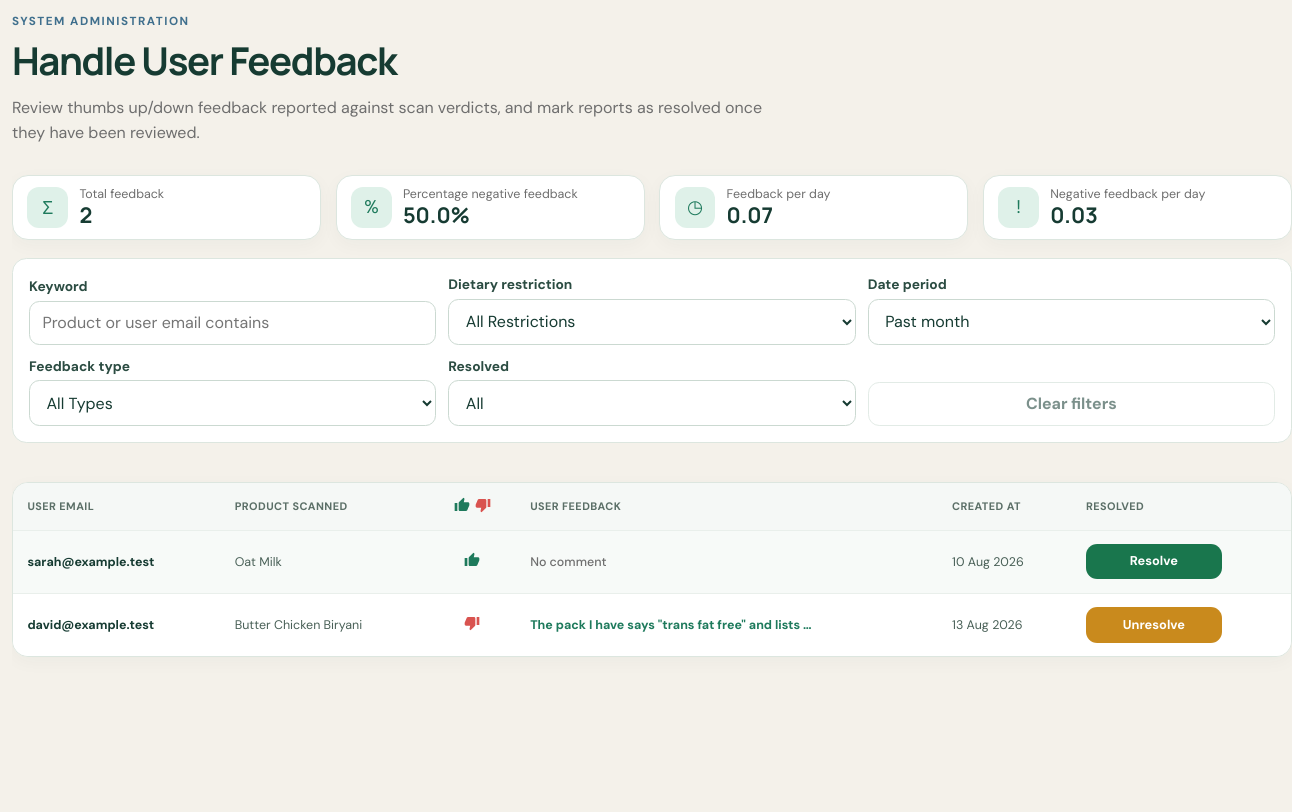
Test: AdminScanFeedbackPage UC20 admin review › resets filters to the default 30-day view
Expected: the column heading "sarah@example.test" is shown, [13,530,220,593]
Step 1. Type "biryani" into the search field labelled "Keyword" → x=233, y=323, box [29,301,436,345]
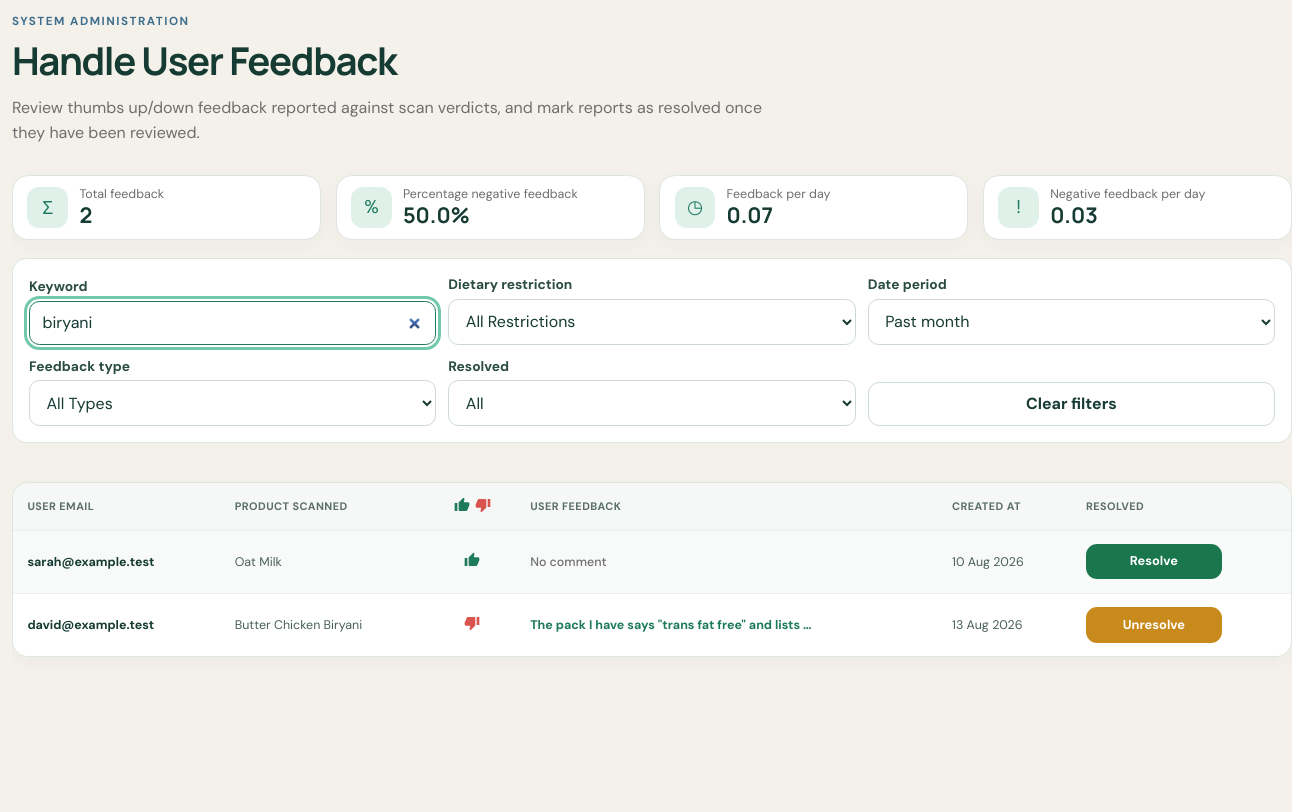
Step 2. Select "Negative" in the dropdown labelled "Feedback type" → x=233, y=403, box [29,380,436,426]
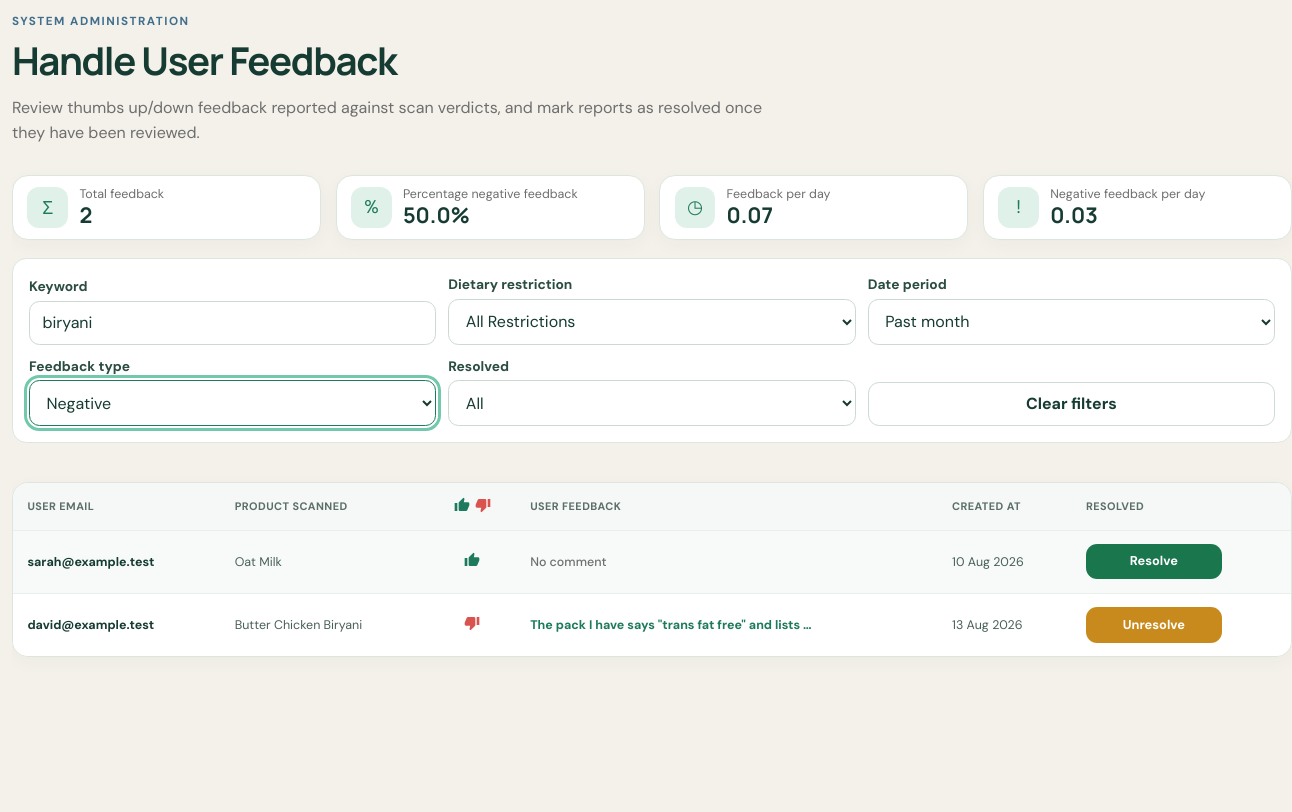
Step 3. Click the button "Clear filters" → x=1071, y=404, box [868,382,1275,426]
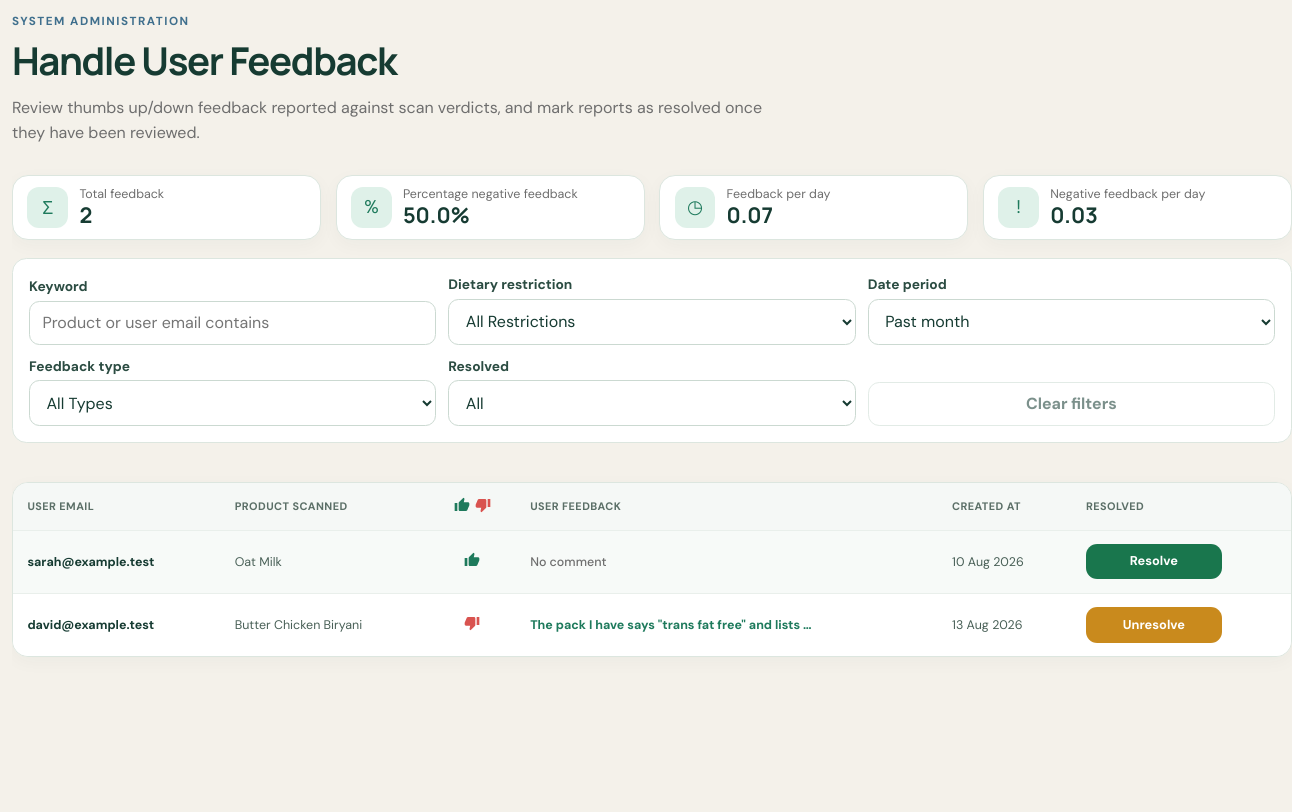
Expected: the dropdown labelled "Date period" shows "Past month", [868,299,1275,345]
Result: the search field labelled "Keyword" is empty at [29,301,436,345]
